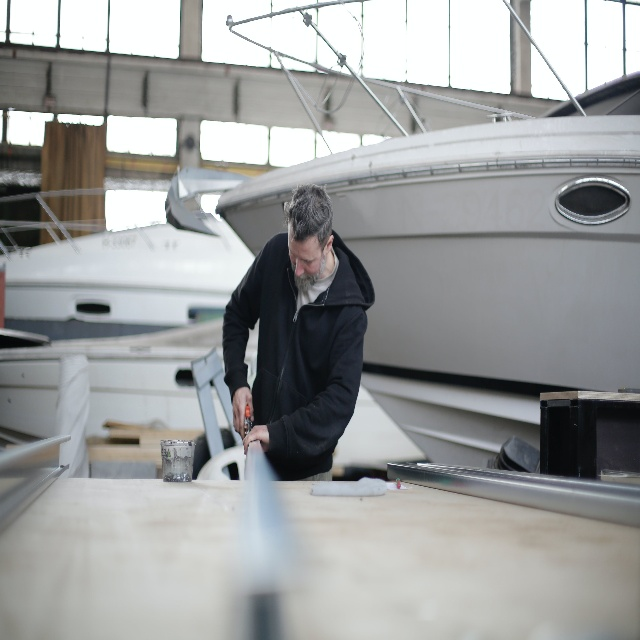Sin_guantes: (231, 390, 255, 438), (241, 422, 270, 459)
